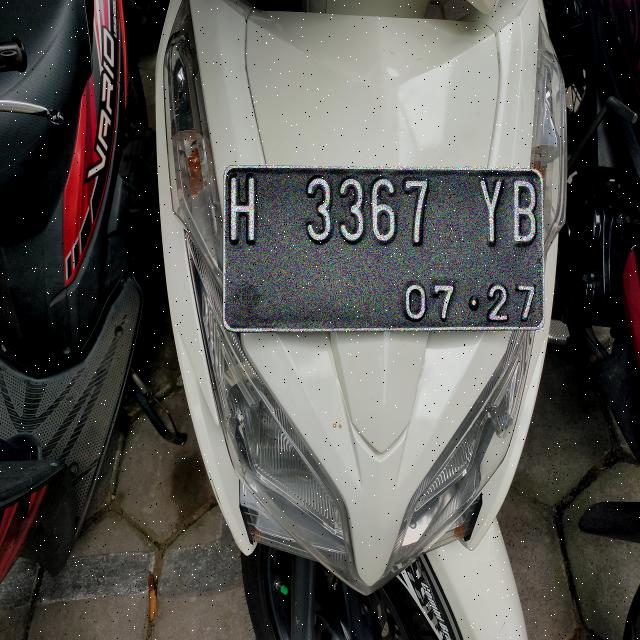plate: (224, 167, 543, 331)
